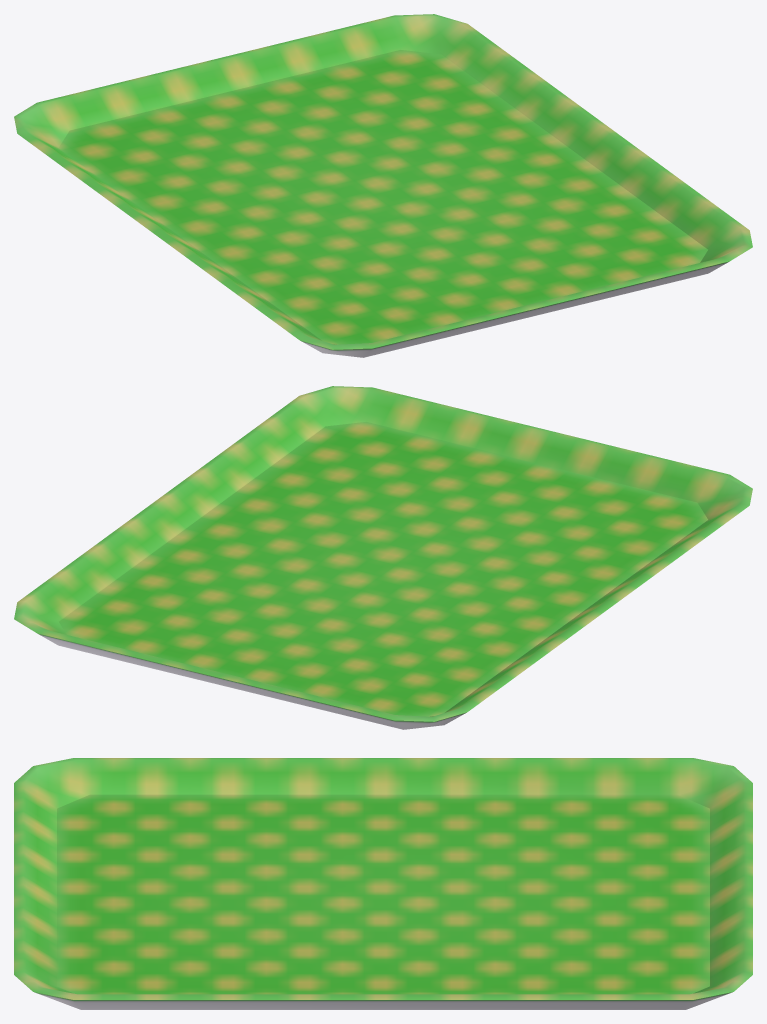
The model's file is jsf_Tray_06.fbx.
3 views of the same model, one above another, from view 1: azimuth 30°, elevation 25°; view 2: azimuth 150°, elevation 25°; view 3: azimuth 270°, elevation 25° (orthographic). The views are drawn at different scales.
Visible parts, largest first — view 1: jsf_Tray_06; view 2: jsf_Tray_06; view 3: jsf_Tray_06.
Boxes of the visible parts, x1,y1,x2,y2 form: jsf_Tray_06: (14,14,752,357); jsf_Tray_06: (14,386,752,729); jsf_Tray_06: (14,758,752,1009).
Size of the model in its own units: 21.76 by 1.1 by 28.1.
